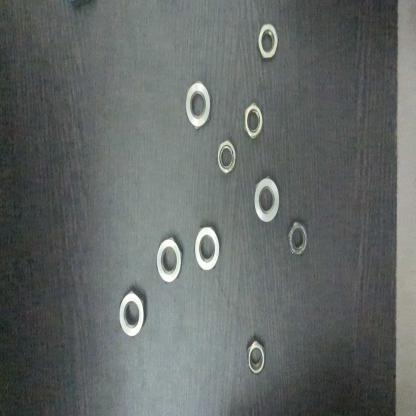NUTS: (181, 75, 216, 136), (251, 17, 287, 73), (114, 285, 151, 338), (194, 222, 226, 274), (252, 171, 281, 223), (151, 232, 182, 280), (243, 334, 267, 379), (215, 137, 240, 179), (242, 101, 264, 142), (287, 211, 306, 257)
